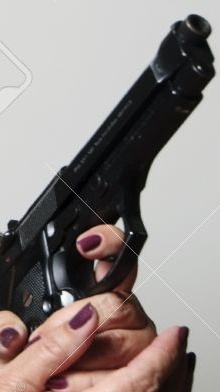pistol: (1, 10, 217, 377)
